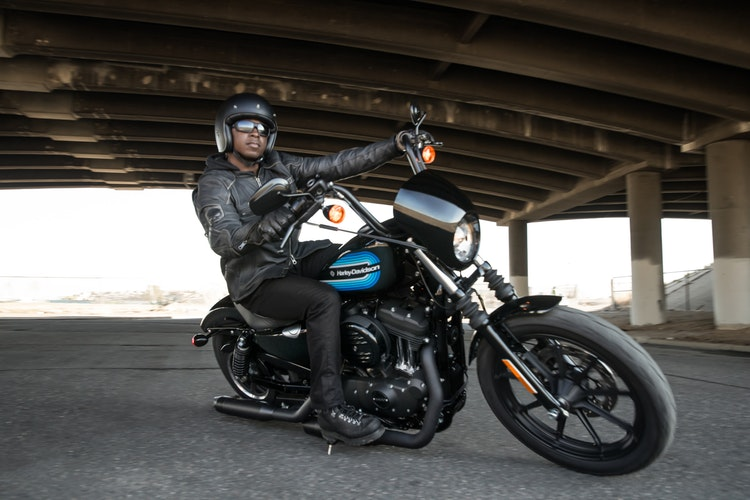helmet: (207, 100, 278, 162)
